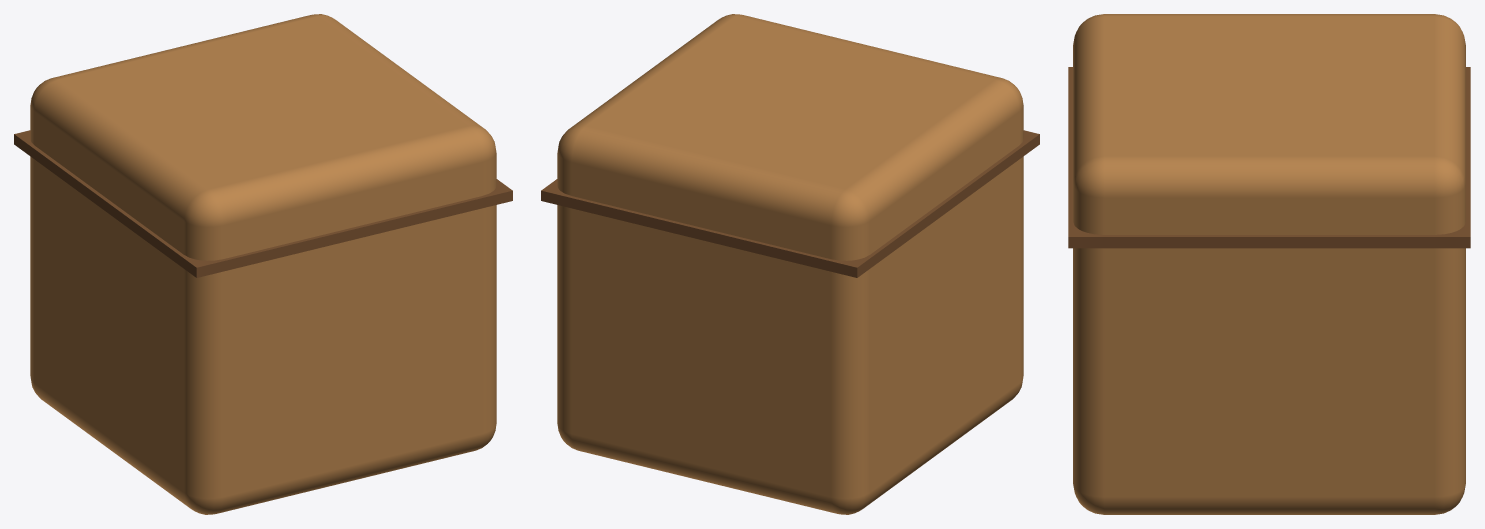
The model's file is prop-crate.glb.
3 views of the same model, side by side, from view 1: azimuth 30°, elevation 25°; view 2: azimuth 150°, elevation 25°; view 3: azimuth 270°, elevation 25° (orthographic). The views are drawn at different scales.
Visible parts, largest first — view 1: CrateBody, LidSeam; view 2: CrateBody, LidSeam; view 3: CrateBody, LidSeam.
Part boxes in pixels (left/top/right/bottom): CrateBody: left=30, top=14, right=496, bottom=514; LidSeam: left=14, top=130, right=512, bottom=277; CrateBody: left=557, top=14, right=1023, bottom=514; LidSeam: left=541, top=130, right=1039, bottom=277; CrateBody: left=1073, top=14, right=1465, bottom=514; LidSeam: left=1068, top=67, right=1470, bottom=248.
Bounding box in the file's own units: 0.512 × 0.5 × 0.512.
